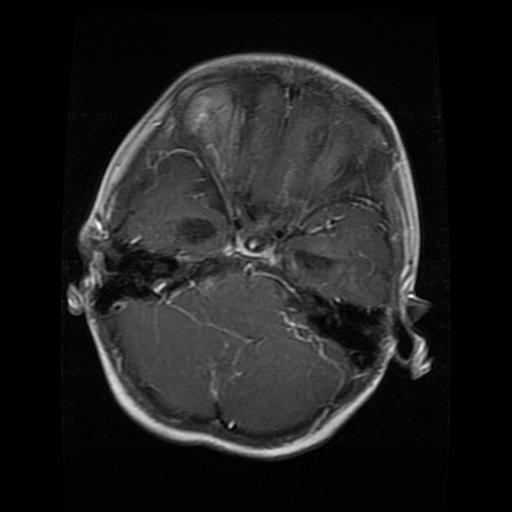Gliomia_tumour: (175, 214, 217, 241)
